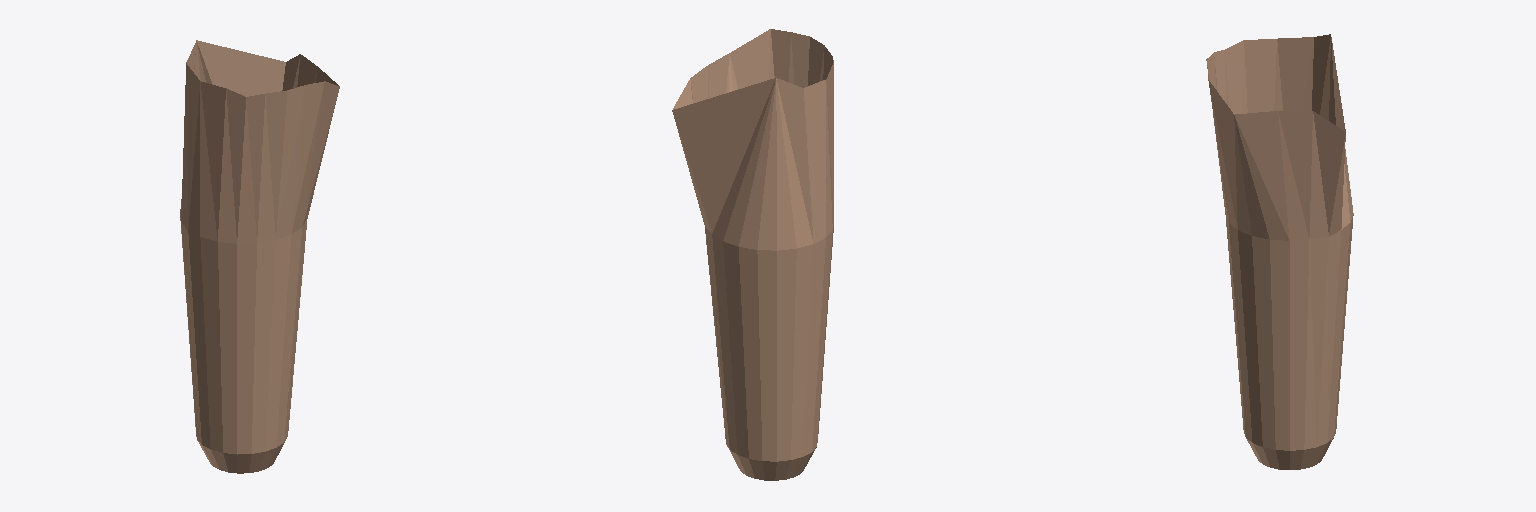
The model's file is LeftLeg.obj.
3 renders of one model, left to right at view 1: azimuth 30°, elevation 25°; view 2: azimuth 150°, elevation 25°; view 3: azimuth 270°, elevation 25°, orthographic.
Visible parts, largest first — view 1: Cube.005_Lilith_Model.005; view 2: Cube.005_Lilith_Model.005; view 3: Cube.005_Lilith_Model.005.
Boxes of the visible parts, x1=… form: Cube.005_Lilith_Model.005: x1=180, y1=40, x2=339, y2=473; Cube.005_Lilith_Model.005: x1=672, y1=29, x2=833, y2=480; Cube.005_Lilith_Model.005: x1=1206, y1=34, x2=1353, y2=469.
Size of the model in its own units: 12.23 by 38.11 by 12.39.